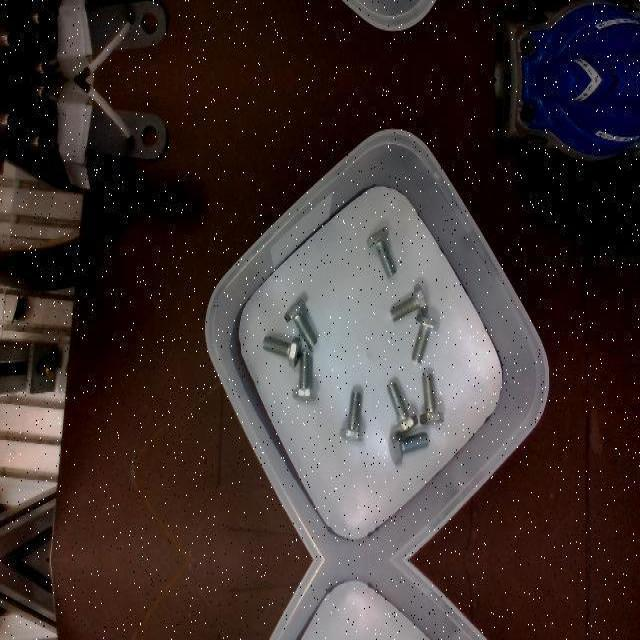screw: (386, 381, 418, 435), (283, 299, 317, 349), (366, 225, 396, 279), (389, 283, 428, 321), (411, 314, 440, 364), (388, 431, 428, 465), (262, 335, 302, 369), (419, 373, 444, 425), (339, 391, 363, 441), (292, 351, 316, 401)
